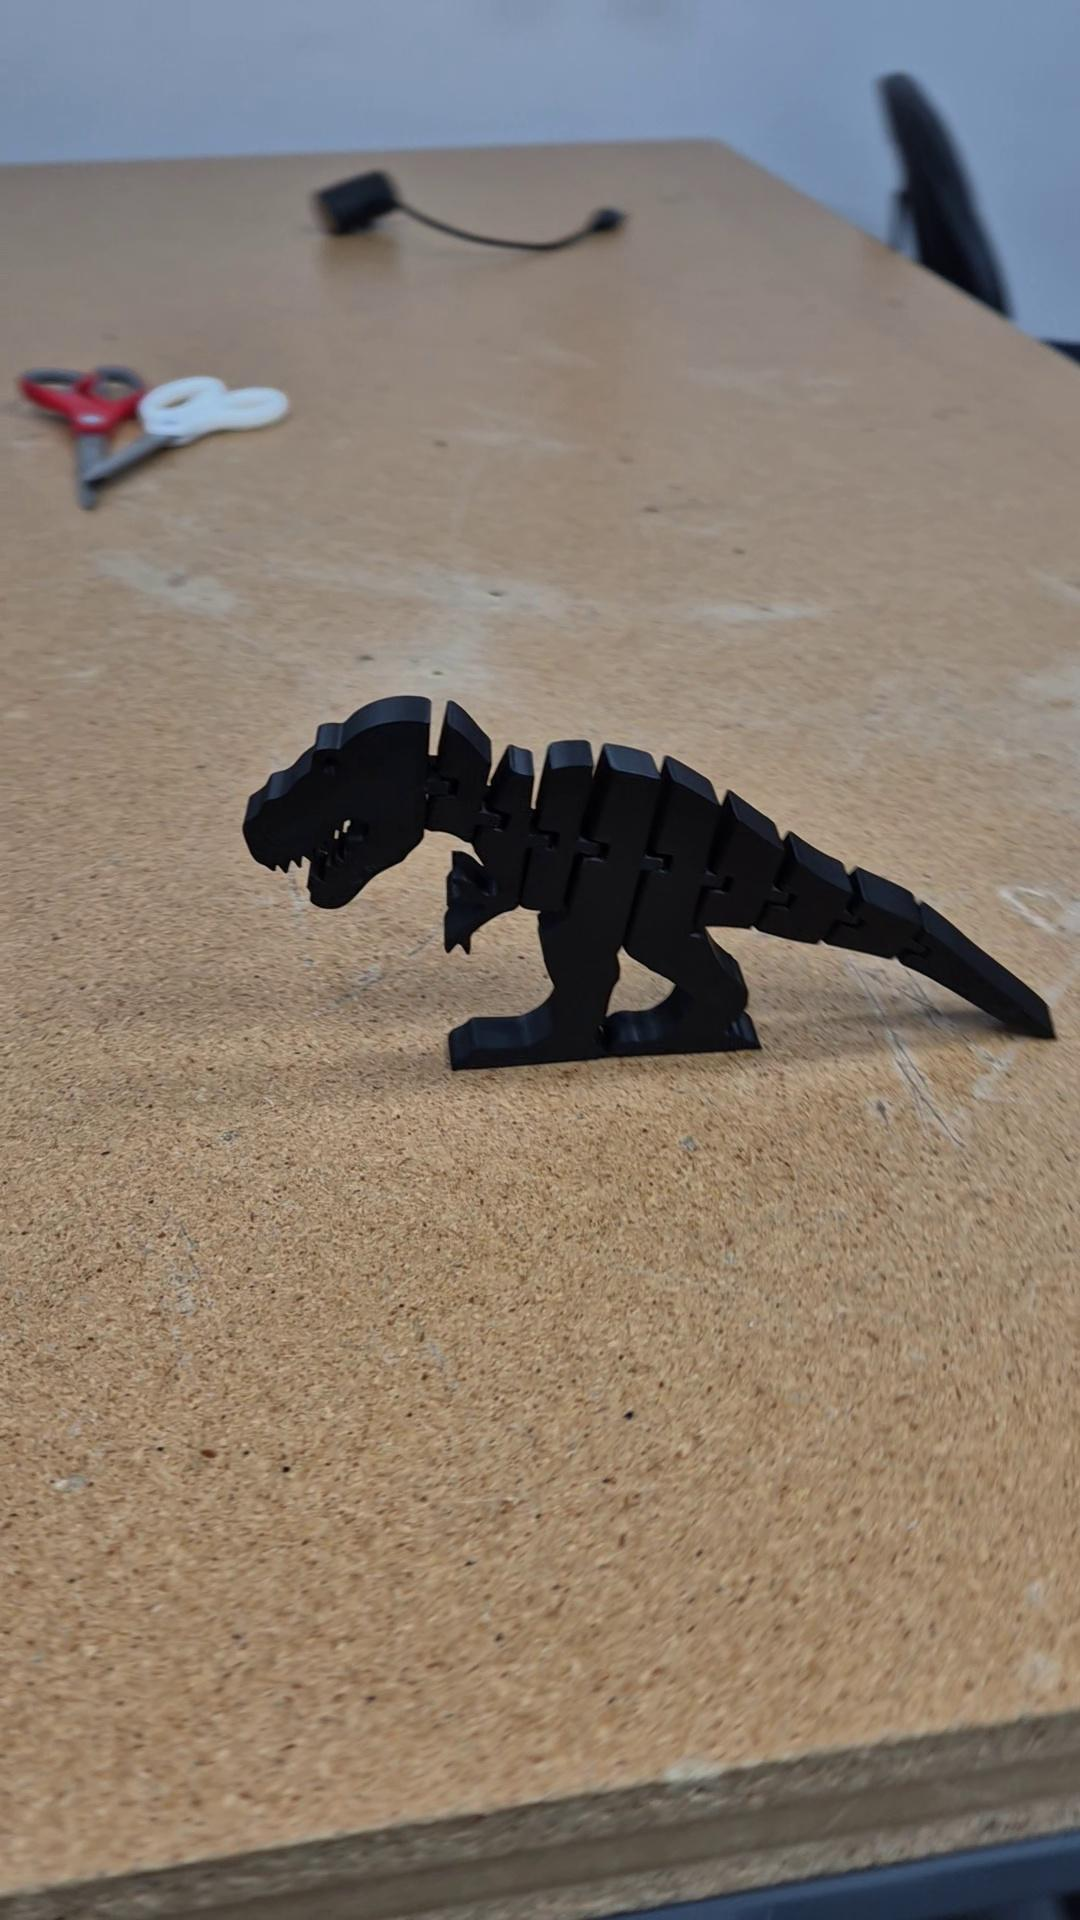dinosaur: (240, 691, 1063, 1076)
